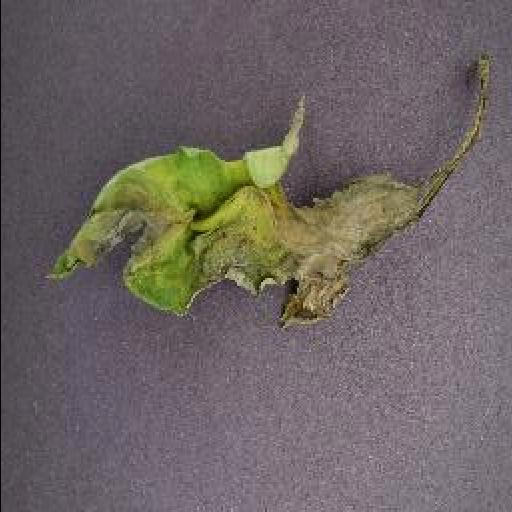disease_tomato: (42, 58, 488, 332)
